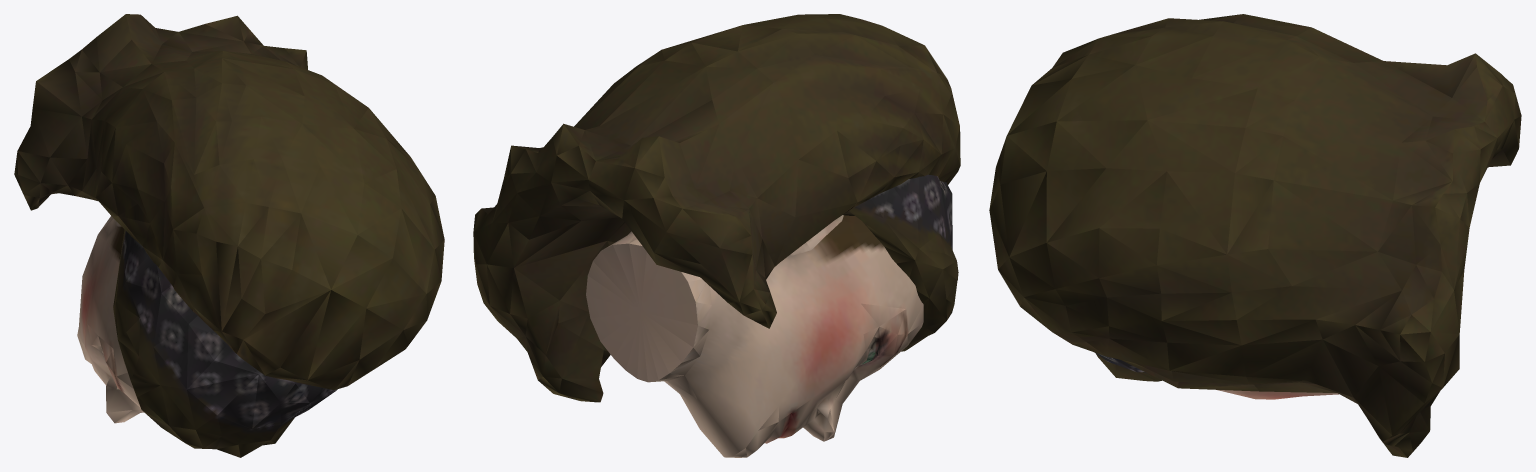
The model's file is dest_nt_nuked_female_01_head_LOD1.obj.
The picture shows the model from 3 angles, left to right: view 1: azimuth 30°, elevation 25°; view 2: azimuth 150°, elevation 25°; view 3: azimuth 270°, elevation 25°; orthographic projection. The views are drawn at different scales.
Parts seen in each view (by area): view 1: mtl_nt_2020_manne_fem01_hair1, mtl_nt_2020_manne_fem01_head1; view 2: mtl_nt_2020_manne_fem01_hair1, mtl_nt_2020_manne_fem01_head1; view 3: mtl_nt_2020_manne_fem01_hair1, mtl_nt_2020_manne_fem01_head1.
Boxes of the visible parts, x1,y1,x2,y2 form: mtl_nt_2020_manne_fem01_hair1: (14, 14, 444, 457); mtl_nt_2020_manne_fem01_head1: (77, 216, 143, 423); mtl_nt_2020_manne_fem01_hair1: (473, 14, 960, 402); mtl_nt_2020_manne_fem01_head1: (586, 215, 923, 457); mtl_nt_2020_manne_fem01_hair1: (989, 14, 1521, 457); mtl_nt_2020_manne_fem01_head1: (1217, 390, 1338, 399).
Size of the model in its own units: 27.67 by 26.14 by 32.9.
